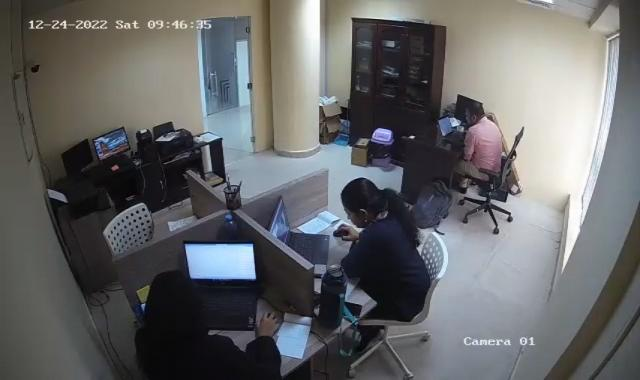no_hairnet: (145, 273, 200, 333), (340, 177, 383, 227), (461, 101, 484, 126)
